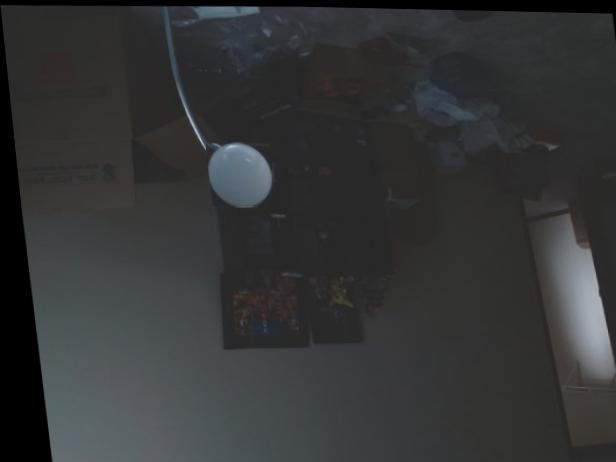Fan: (202, 141, 272, 207)
